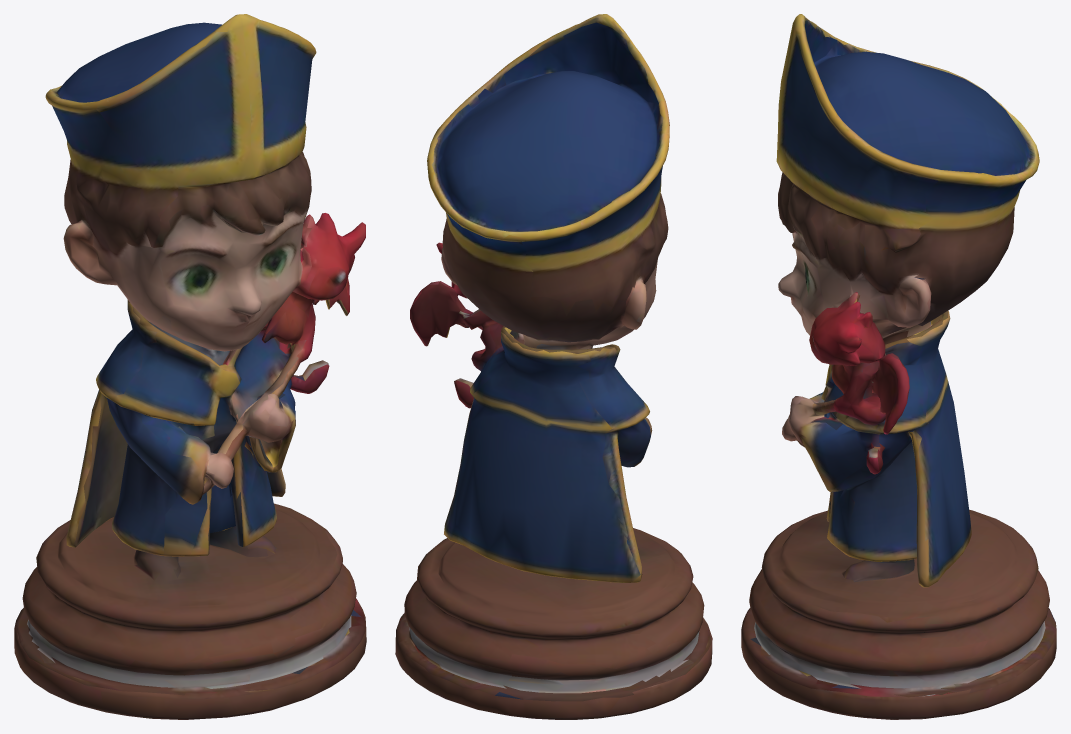
The model's file is bishop-ale-hy2-10k.glb.
3 renders of one model, left to right at view 1: azimuth 30°, elevation 25°; view 2: azimuth 150°, elevation 25°; view 3: azimuth 270°, elevation 25°, orthographic. The views are drawn at different scales.
Parts seen in each view (by area): view 1: tmpkpwurx1l.ply; view 2: tmpkpwurx1l.ply; view 3: tmpkpwurx1l.ply.
Boxes of the visible parts, bbox=[...] form: tmpkpwurx1l.ply: bbox=[14, 14, 366, 719]; tmpkpwurx1l.ply: bbox=[395, 14, 712, 719]; tmpkpwurx1l.ply: bbox=[741, 14, 1056, 719].
Bounding box in the file's own units: 0.9625 × 2 × 0.8986.
Materials: 1 (1 with a texture image).
